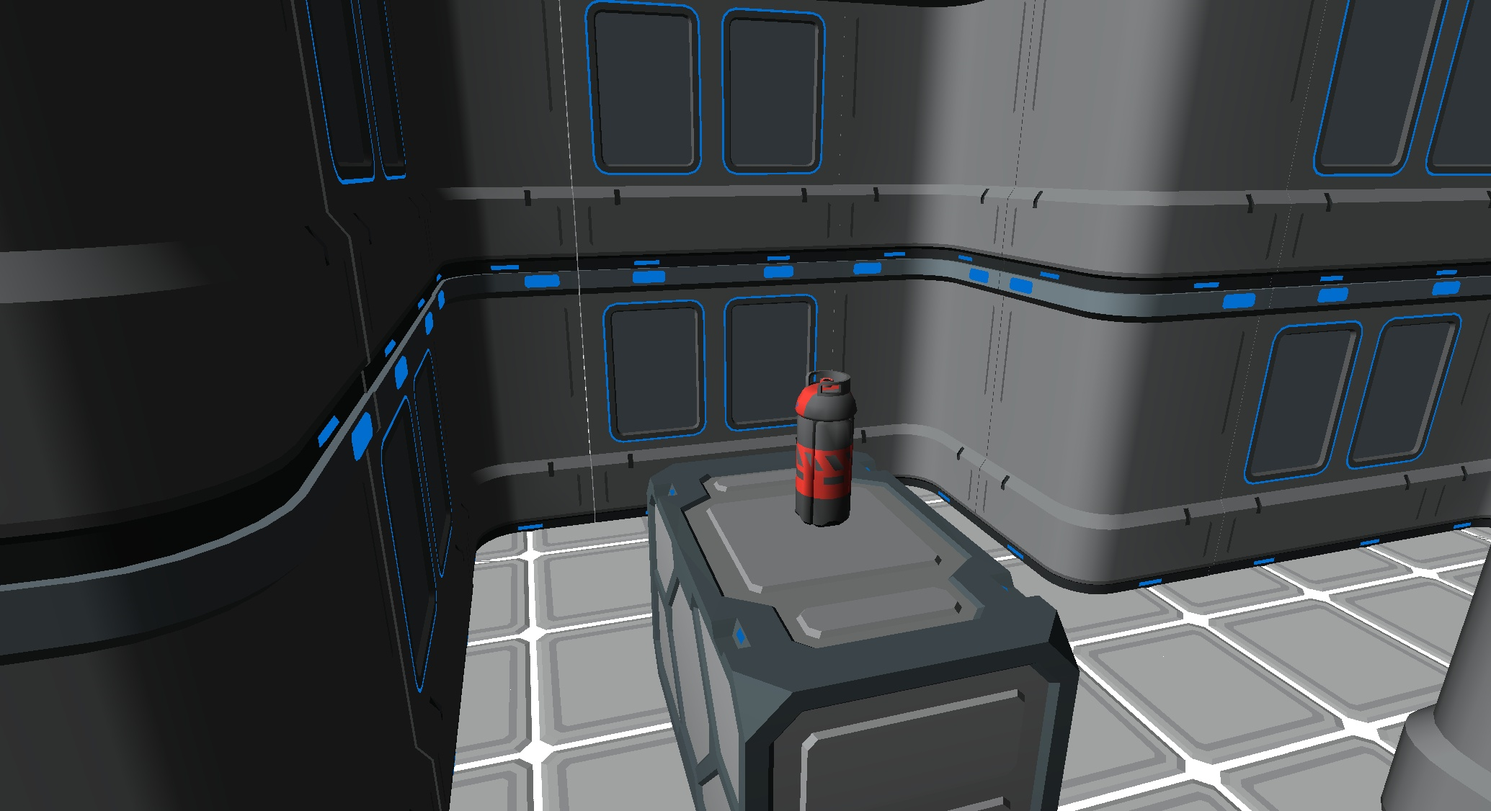red_barrel: (796, 370, 856, 526)
